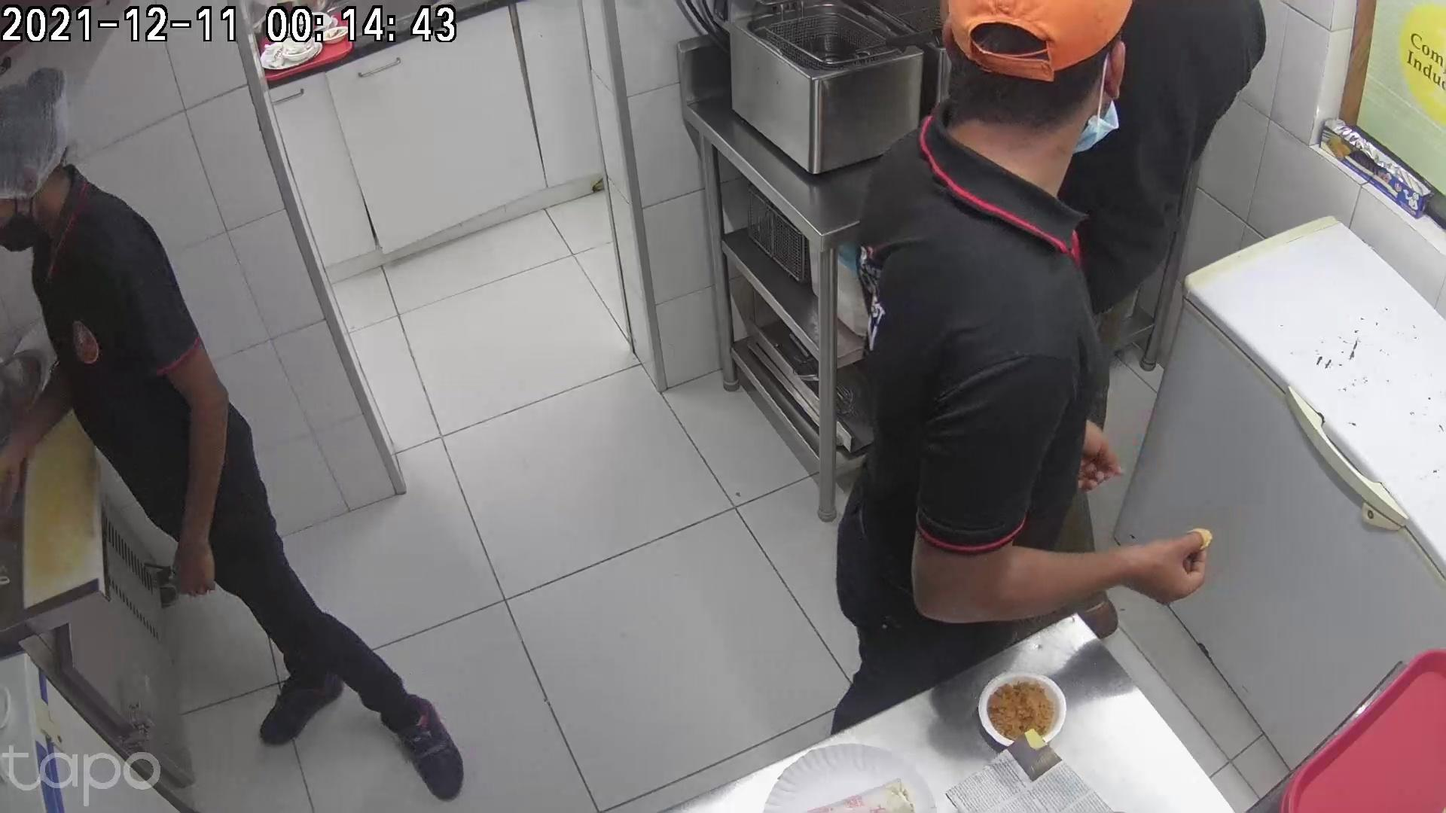gloves: (490, 657, 602, 808)
